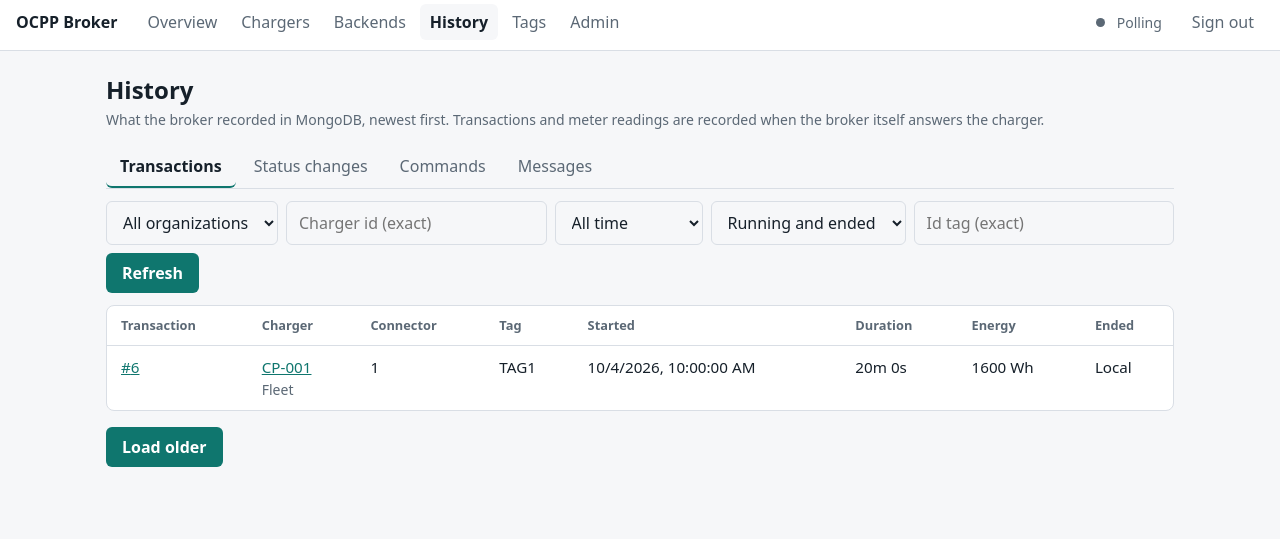
Test: the history page › keeps what it has and says so when the next page cannot be loaded
Expected: the link "#6" is shown, [121, 357, 140, 377]
What coordinates should you click on to do the following:
click the button "Load older"
I would click on:
 (164, 447)
Its box is [106, 427, 222, 467].
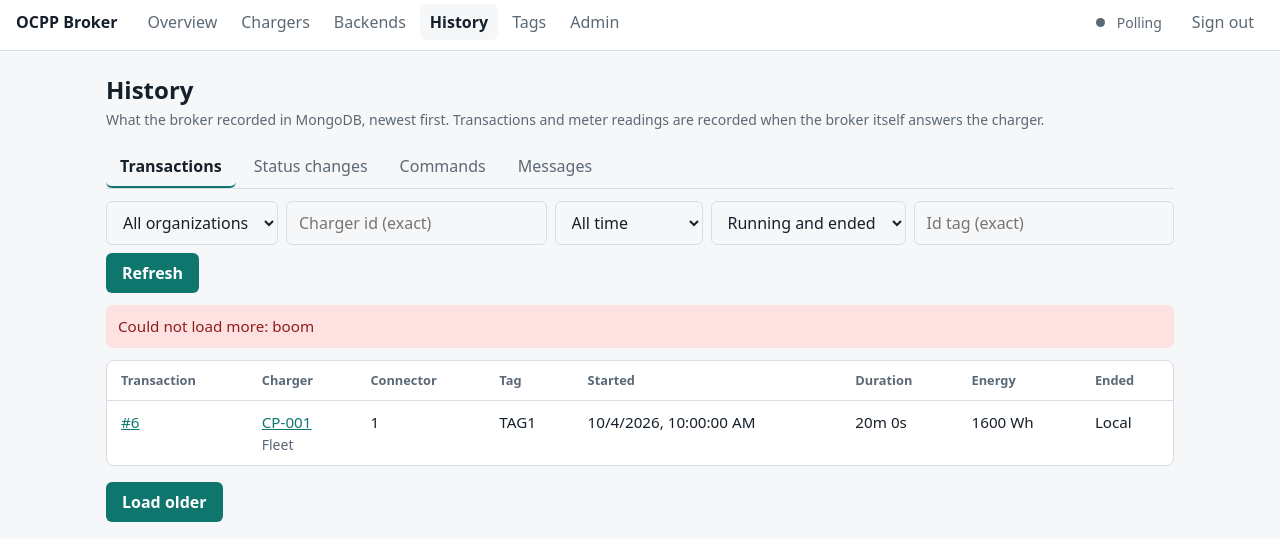
Expected: the link "#6" is shown, [121, 412, 140, 432]
Now the message "Could not load more: boom" is shown, box [106, 305, 1174, 348]
